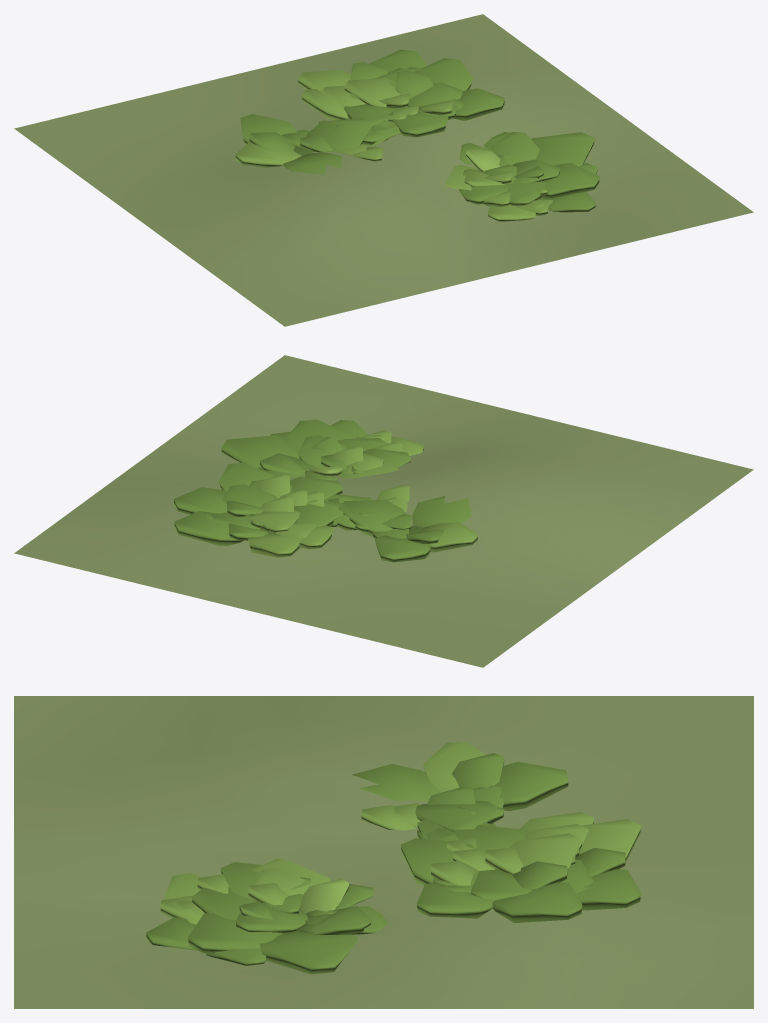
The model's file is master_grass_lush_01.glb.
3 renders of one model, top to bottom at view 1: azimuth 30°, elevation 25°; view 2: azimuth 150°, elevation 25°; view 3: azimuth 270°, elevation 25°, orthographic. The views are drawn at different scales.
Parts seen in each view (by area): view 1: master_grass_lush_01; view 2: master_grass_lush_01; view 3: master_grass_lush_01.
Boxes of the visible parts, <box> form: master_grass_lush_01: <box>14,14,753,326</box>; master_grass_lush_01: <box>14,355,753,667</box>; master_grass_lush_01: <box>14,696,753,1008</box>.
Size of the model in its own units: 1.35 by 0.1349 by 1.35.
